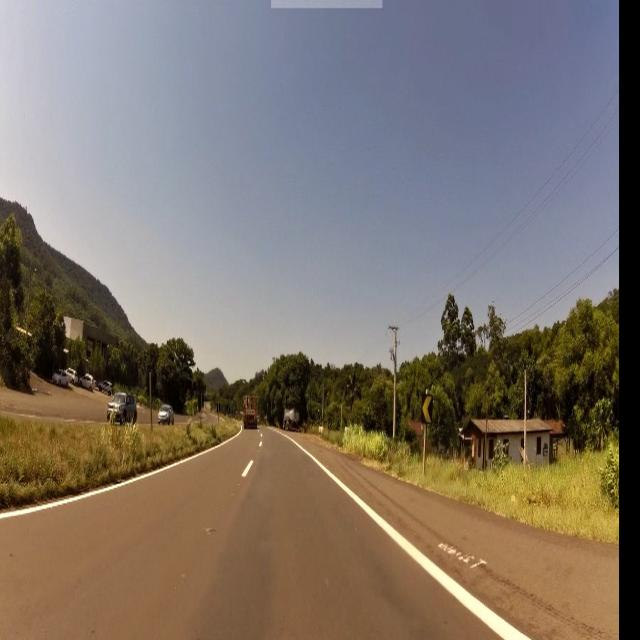Del: (422, 394, 436, 424)
